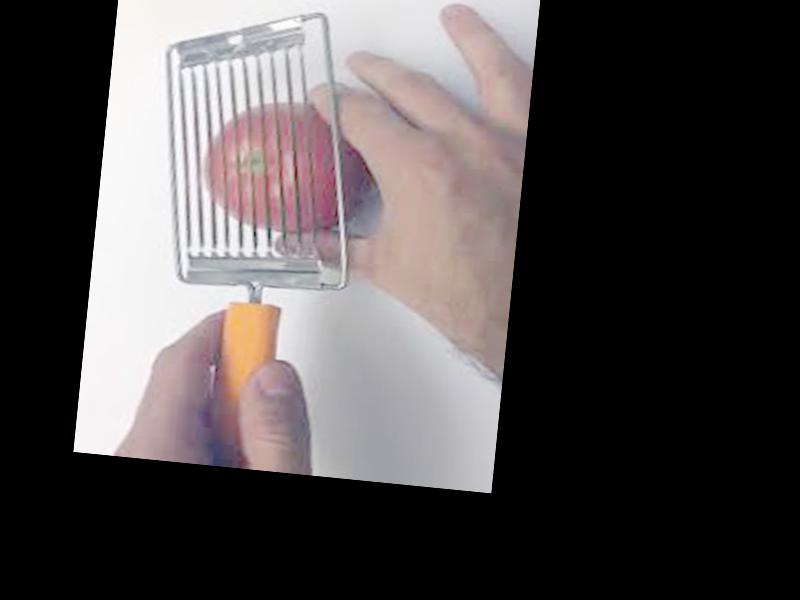Tomato: (199, 98, 371, 242)
